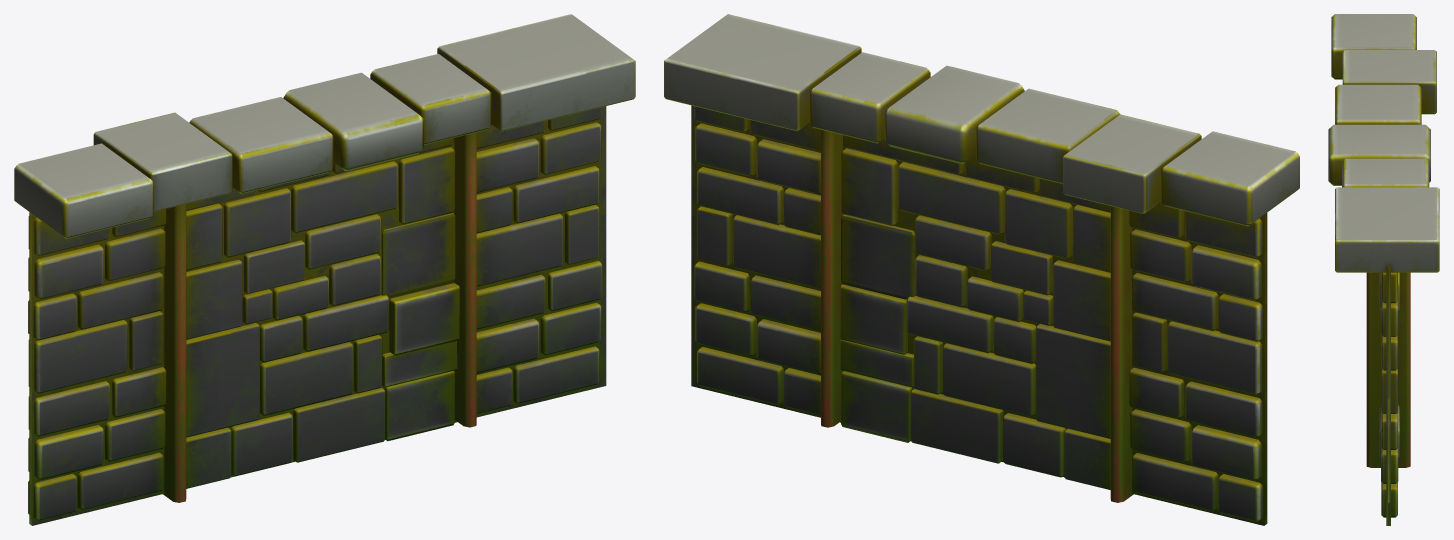
3 views of the same model, side by side, from view 1: azimuth 30°, elevation 25°; view 2: azimuth 150°, elevation 25°; view 3: azimuth 270°, elevation 25° (orthographic). The views are drawn at different scales.
Visible parts, largest first — view 1: Muro; view 2: Muro; view 3: Muro.
Part boxes in pixels (x1=…): Muro: x1=14, y1=14, x2=635, y2=525; Muro: x1=664, y1=14, x2=1299, y2=525; Muro: x1=1328, y1=14, x2=1439, y2=525.
Bounding box in the file's own units: 16.57 × 9.66 × 3.42.
1 material, 1 textured.
